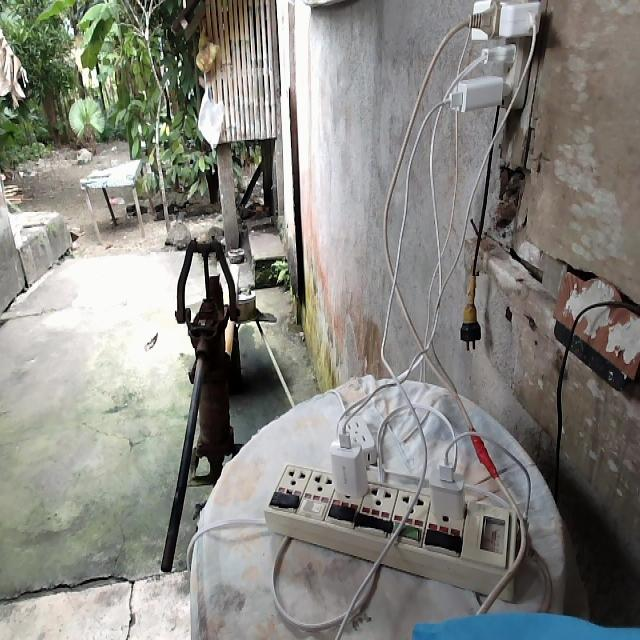-: (442, 0, 549, 116)
